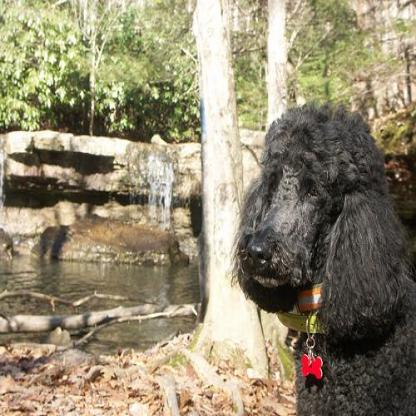standard_poodle: (232, 100, 414, 414)
